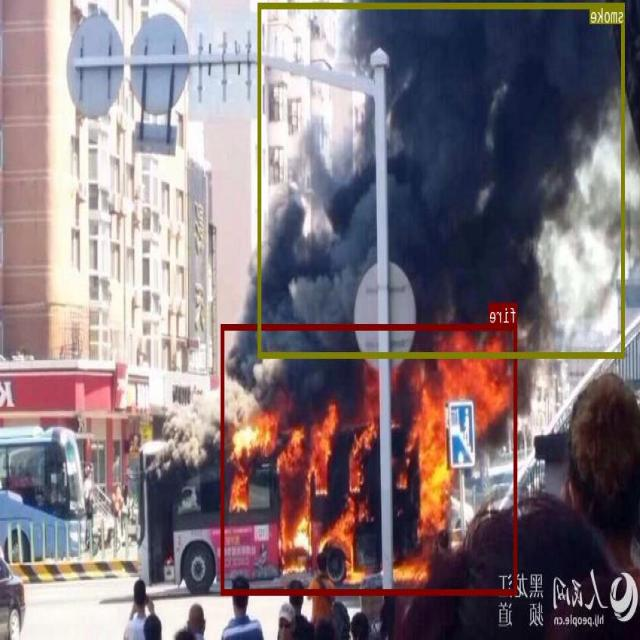fire: (222, 324, 517, 594)
smoke: (258, 1, 626, 358)
